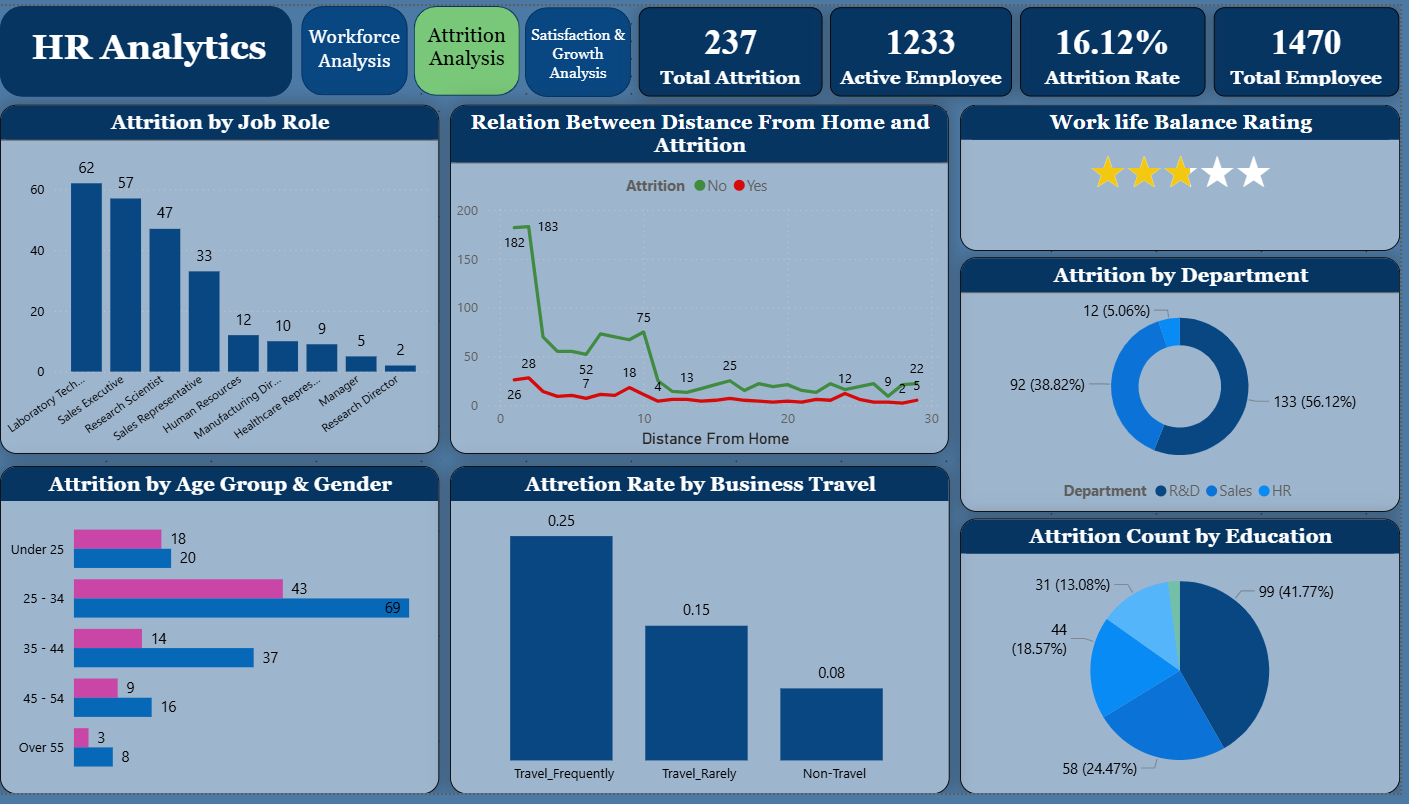

This screenshot's page, from the dashboard's own definition file:
{"tool":"powerbi","page":{"name":"Attrition Analysis","canvas":[1280,720],"ordinal":1},"visuals":[{"type":"card","fields":{"Values":["CountNonNull(HR data.Employee Count)"]},"box":[1109.2,1.4,169.4,81.4],"z":0},{"type":"shape","box":[275,0,97.2,81.9],"z":1000},{"type":"columnChart","title":"Attrition by Job Role","fields":{"Category":["HR data.Job Role"],"Y":["CountNonNull(HR data.emp no)"]},"box":[0,89.8,401.5,319.2],"z":2000},{"type":"shape","box":[377.9,0,97.1,82],"z":3000},{"type":"donutChart","title":"Attrition by Department","fields":{"Category":["HR data.Department"],"Series":["HR data.Attrition"],"Y":["CountNonNull(HR data.emp no)"]},"box":[877.3,229.4,402.7,233.1],"z":4000},{"type":"shape","box":[479.6,1.3,97.1,82],"z":5000},{"type":"card","fields":{"Values":["CountNonNull(HR data.Attrition)"]},"box":[584.3,1.4,168,81.4],"z":6000},{"type":"textbox","box":[275.5,11.2,97.2,59.8],"z":7000},{"type":"clusteredBarChart","title":"Attrition by Age Group & Gender","fields":{"Category":["HR data.CF_age band"],"Y":["CountNonNull(HR data.emp no)"],"Series":["HR data.Gender"]},"box":[0,420,401.7,300],"z":8000},{"type":"textbox","box":[377.8,11.2,97.2,59.8],"z":9000},{"type":"card","fields":{"Values":["HR data.Attretion Rate"]},"box":[932.8,1.4,169.4,81.4],"z":10000},{"type":"textbox","box":[480,11.2,97.2,71.1],"z":11000},{"type":"pieChart","title":"Attrition Count by Education","fields":{"Category":["HR data.Education"],"Y":["CountNonNull(HR data.emp no)"]},"box":[877.7,468.8,402.7,251.8],"z":12000},{"type":"card","fields":{"Values":["CountNonNull(HR data.Attrition)"]},"box":[759.2,1.4,166.6,81.4],"z":13000},{"type":"ratingsvisual001","title":"Work life Balance Rating","fields":{"measure":["Avg(HR data.Work Life Balance)"]},"box":[877.3,89.8,402.7,133.4],"z":14000},{"type":"shape","box":[0,0,267.1,82.9],"z":15000},{"type":"textbox","box":[23.7,13.7,243.1,58.6],"z":16000},{"type":"lineChart","title":"Relation Between Distance From Home and Attrition","fields":{"Category":["HR data.Distance From Home"],"Series":["HR data.Attrition"],"Y":["CountNonNull(HR data.emp no)"]},"box":[411.4,89.8,456.3,319.2],"z":17000},{"type":"columnChart","fields":{"Y":["HR data.Attretion Rate"],"Category":["HR data.Business Travel"]},"box":[411.7,420,456.7,300],"z":18000},{"type":"actionButton","box":[274.3,1.2,99.7,81],"z":19000},{"type":"actionButton","box":[376.5,2.5,99.7,81],"z":20000},{"type":"actionButton","box":[481.2,1.2,97.2,81],"z":21000}]}

Visuals, with their boxes in screenshot pixels (x1, y1, x2, y2), scaled from the page's 1280x720 canvas onto the 1409x804 screenshot:
card - CountNonNull(HR data.Employee Count): rect(1221, 2, 1407, 92)
shape: rect(303, 0, 410, 91)
"Attrition by Job Role" columnChart: rect(0, 100, 442, 457)
shape: rect(416, 0, 523, 92)
"Attrition by Department" donutChart: rect(966, 256, 1408, 516)
shape: rect(528, 1, 635, 93)
card - CountNonNull(HR data.Attrition): rect(643, 2, 828, 92)
textbox: rect(303, 13, 410, 79)
"Attrition by Age Group & Gender" clusteredBarChart: rect(0, 469, 442, 803)
textbox: rect(416, 13, 523, 79)
card - HR data.Attretion Rate: rect(1027, 2, 1213, 92)
textbox: rect(528, 13, 635, 92)
"Attrition Count by Education" pieChart: rect(966, 523, 1408, 803)
card - CountNonNull(HR data.Attrition): rect(836, 2, 1019, 92)
"Work life Balance Rating" ratingsvisual001: rect(966, 100, 1408, 249)
shape: rect(0, 0, 294, 93)
textbox: rect(26, 15, 294, 81)
"Relation Between Distance From Home and Attrition" lineChart: rect(453, 100, 955, 457)
columnChart - HR data.Attretion Rate x HR data.Business Travel: rect(453, 469, 956, 803)
actionButton: rect(302, 1, 412, 92)
actionButton: rect(414, 3, 524, 93)
actionButton: rect(530, 1, 637, 92)
